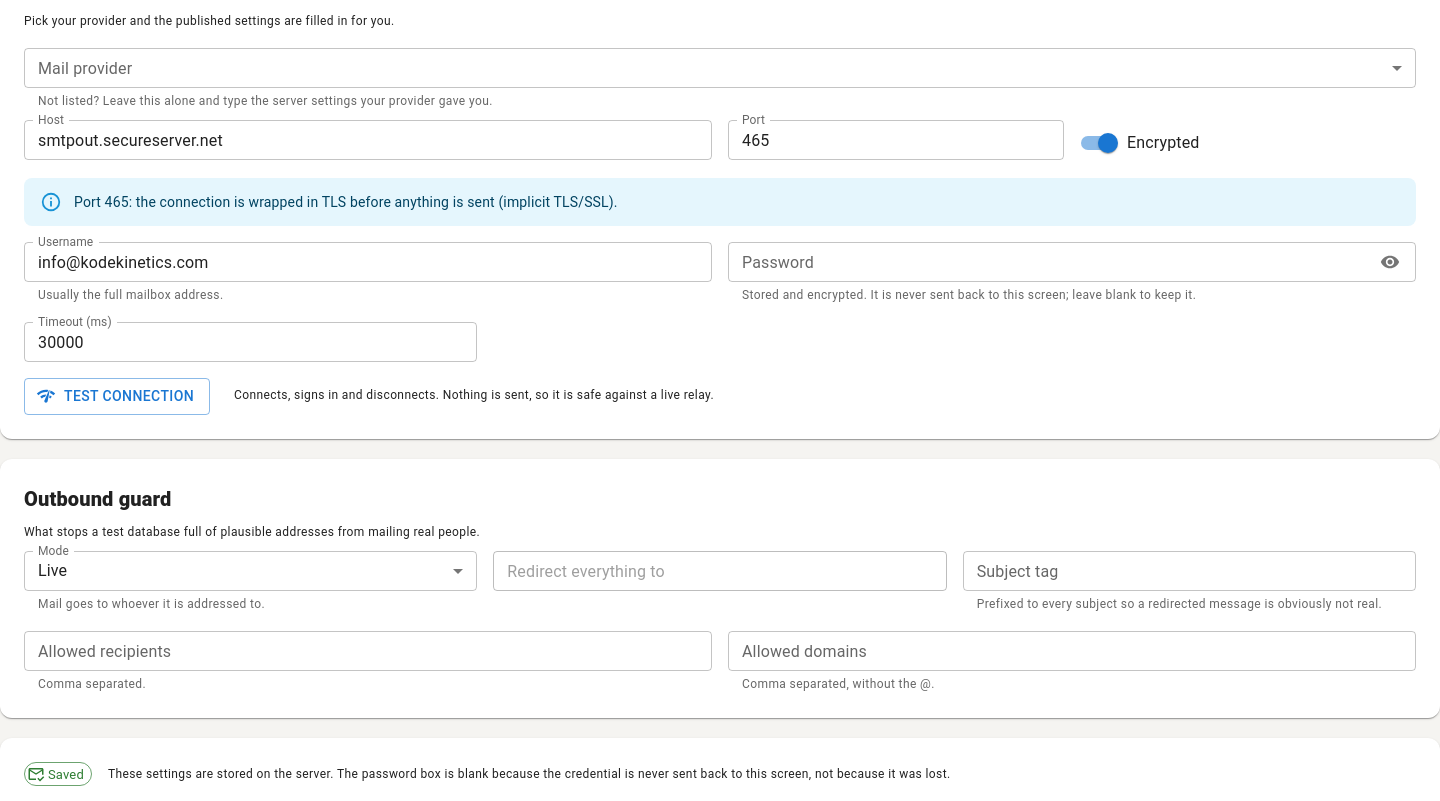
Test: platform email settings › clears a stale connection verdict as soon as the settings change
(page scrolled)
Check: the field labelled "Host" is shown, box x1=24 y1=120 x2=712 y2=160
Click the button "Test connection" at (117, 396), box x1=24 y1=378 x2=210 y2=415
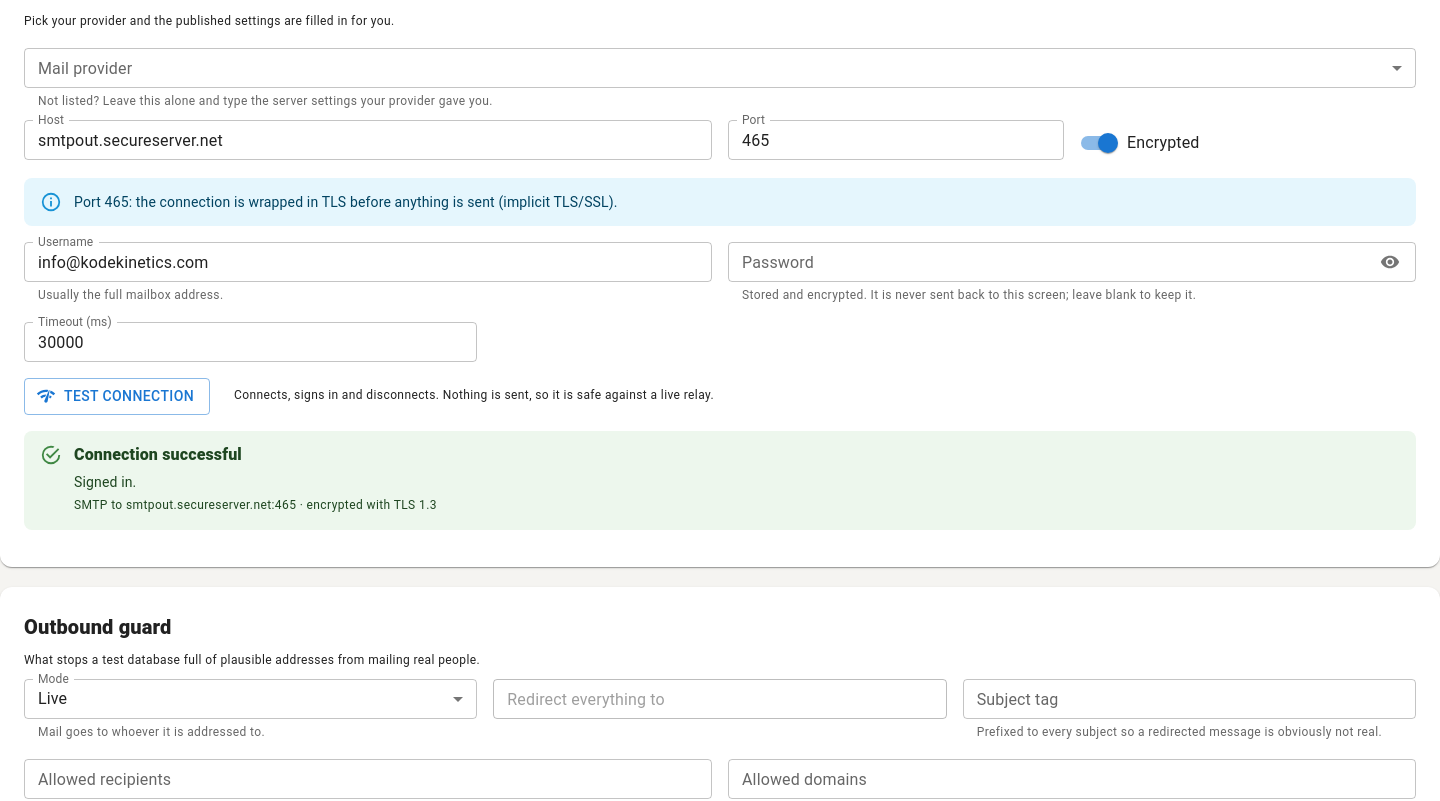
Check: the element with test id "mail-connection-report" is shown, box x1=24 y1=431 x2=1416 y2=542
Replace the text in the field labelled "Host" with "smtp.office365.com" at (368, 140), box x1=24 y1=120 x2=712 y2=160
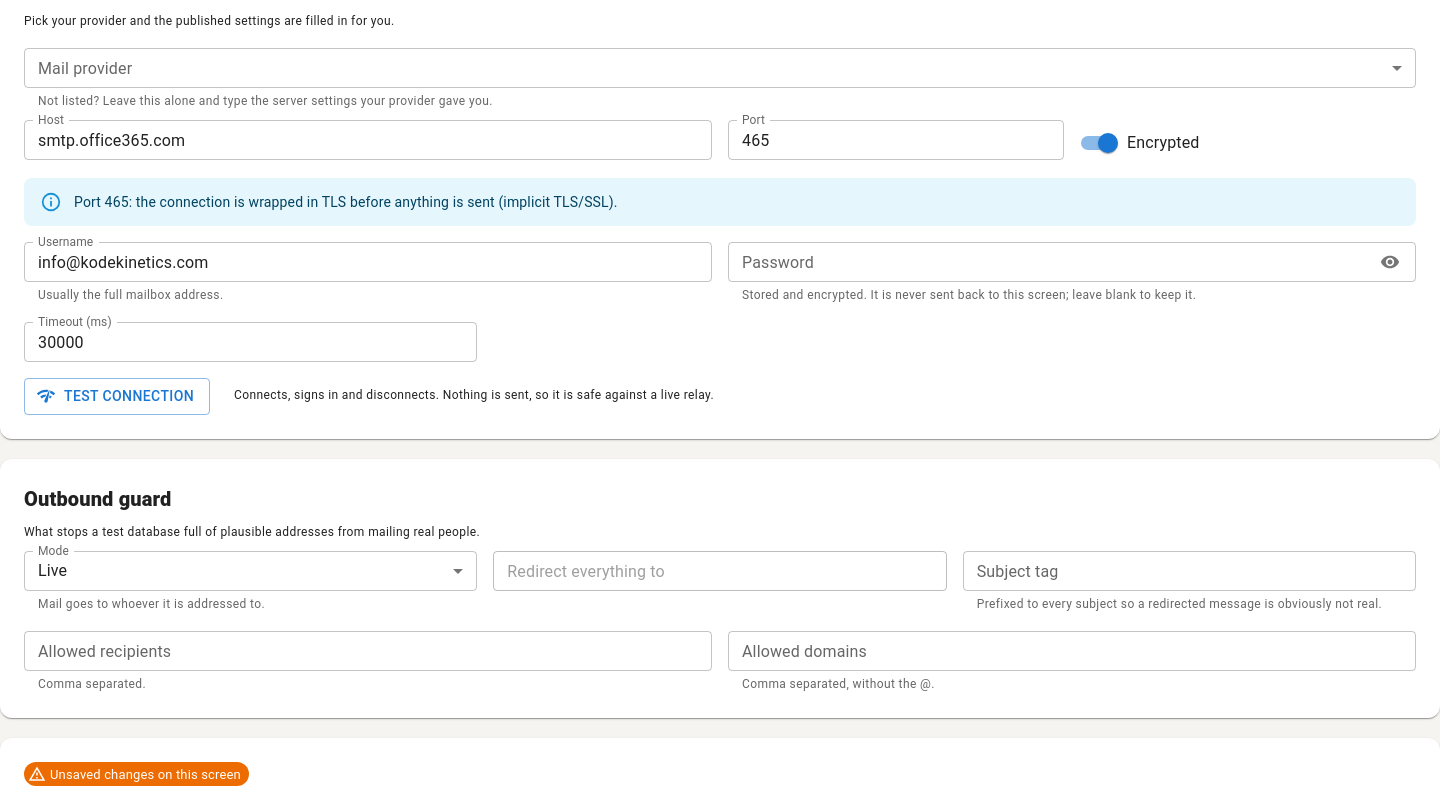
Check: the element with test id "mail-connection-report" is gone
